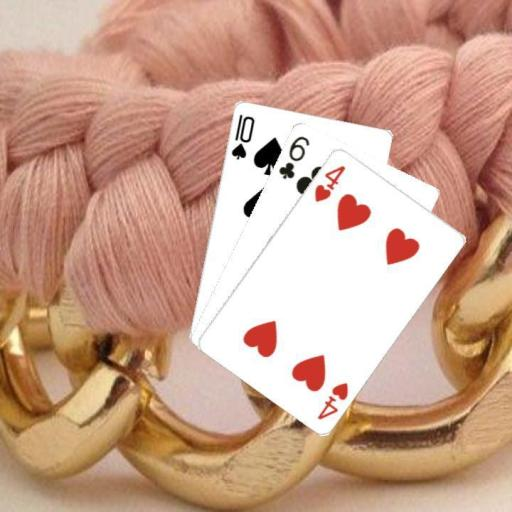card-corner: (275, 132, 311, 180), (314, 378, 350, 421), (311, 162, 347, 204), (228, 110, 256, 161)
